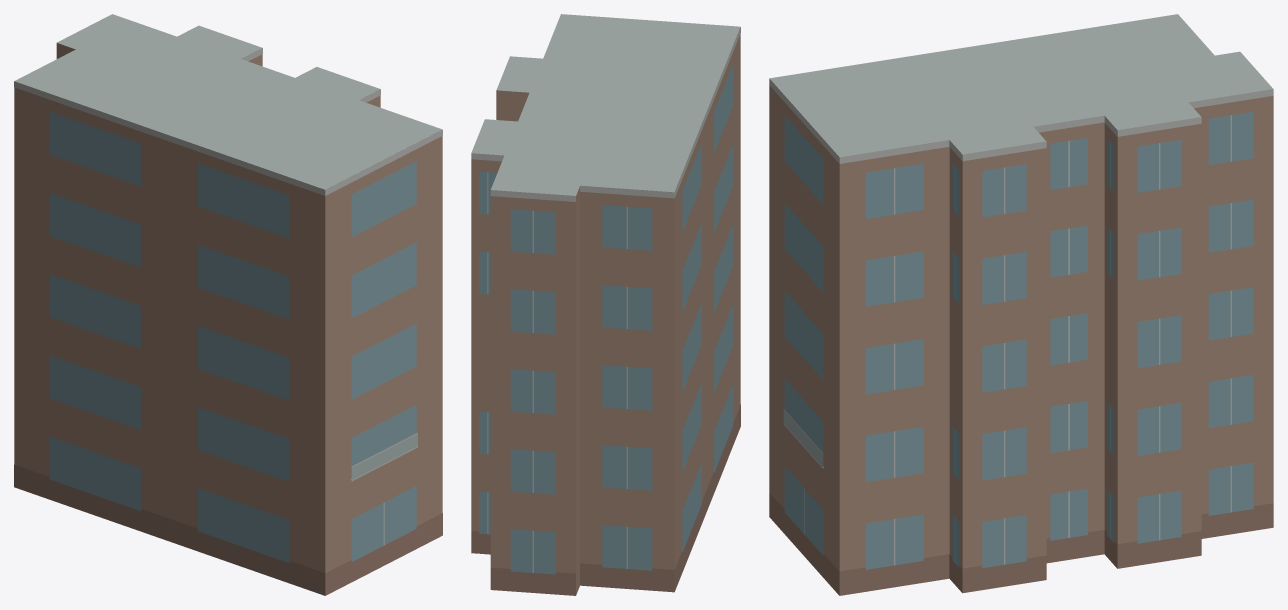
File: survey-upis-32974204.glb
3 renders of one model, left to right at view 1: azimuth 30°, elevation 25°; view 2: azimuth 150°, elevation 25°; view 3: azimuth 270°, elevation 25°, orthographic. The views are drawn at different scales.
Visible parts, largest first — view 1: survey-upis-32974204.tmp; view 2: survey-upis-32974204.tmp; view 3: survey-upis-32974204.tmp.
Part boxes in pixels (box(x1,y1,x2,y2)): survey-upis-32974204.tmp: box(14, 14, 442, 595); survey-upis-32974204.tmp: box(471, 14, 740, 595); survey-upis-32974204.tmp: box(769, 14, 1273, 595).
Bounding box in the file's own units: 11.3 × 16.1 × 16.79.
